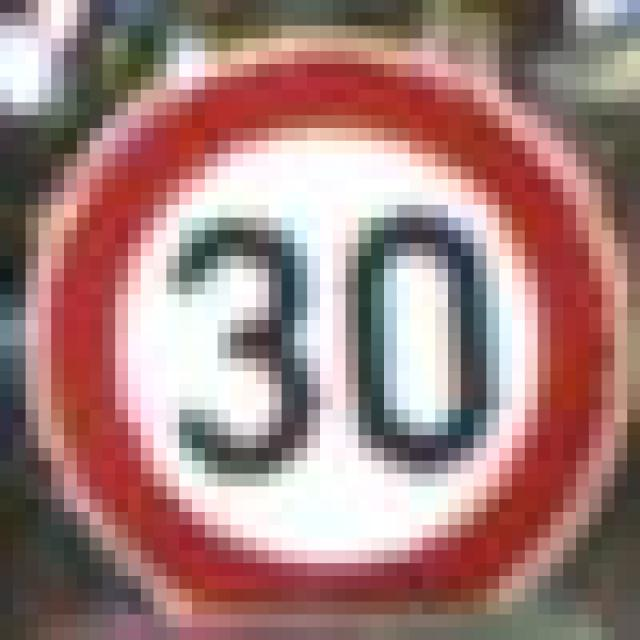SPEED_LIMIT_30: (13, 26, 627, 614)
